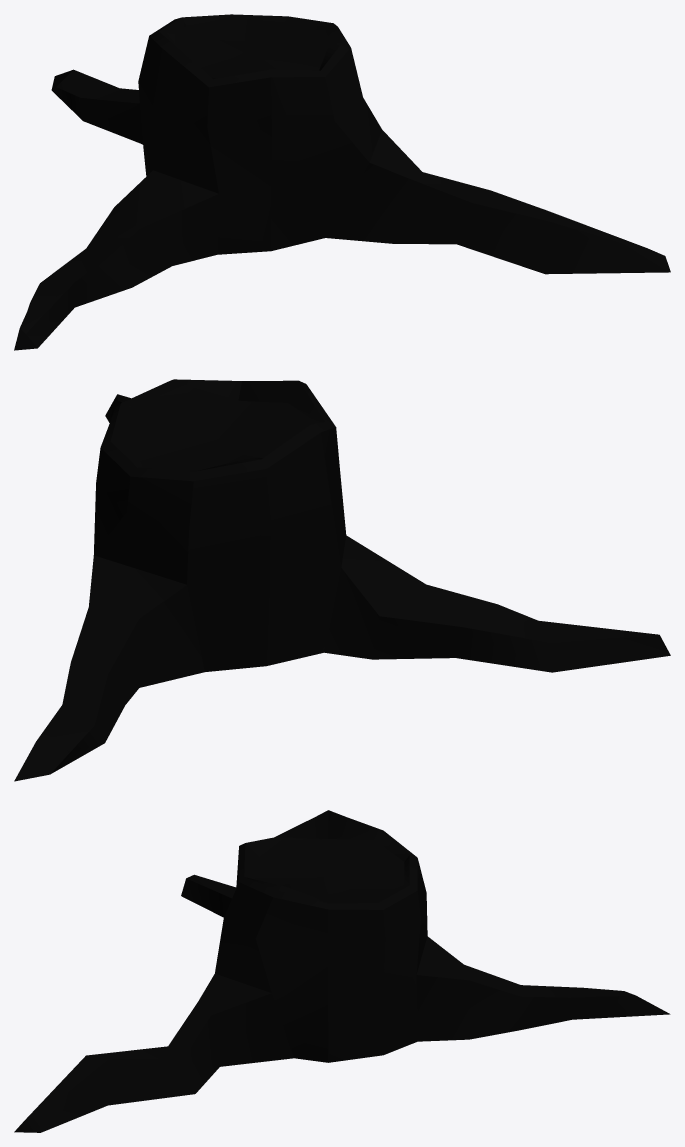
Rendered from Stump.obj.
The picture shows the model from 3 angles, top to bottom: view 1: azimuth 30°, elevation 25°; view 2: azimuth 150°, elevation 25°; view 3: azimuth 270°, elevation 25°; orthographic projection. The views are drawn at different scales.
Bounding box in the file's own units: 6.42 × 2.14 × 7.
1 material, 1 textured.
